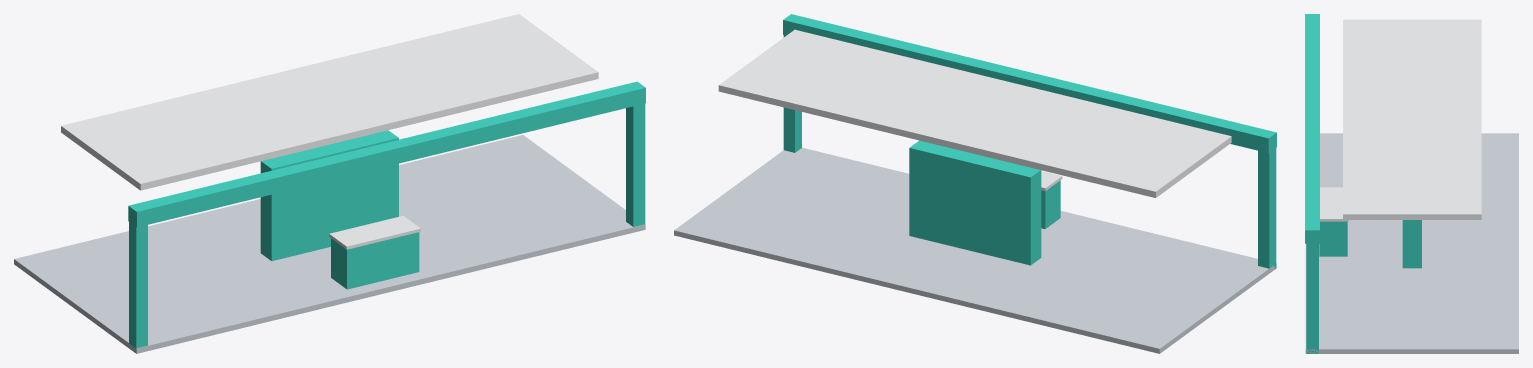
3 views of the same model, side by side, from view 1: azimuth 30°, elevation 25°; view 2: azimuth 150°, elevation 25°; view 3: azimuth 270°, elevation 25° (orthographic). The views are drawn at different scales.
Visible parts, largest first — view 1: Exhibition Booth Concept; view 2: Exhibition Booth Concept; view 3: Exhibition Booth Concept.
Part boxes in pixels (x1,y1,x2,y2): Exhibition Booth Concept: [14, 14, 645, 353]; Exhibition Booth Concept: [674, 14, 1276, 353]; Exhibition Booth Concept: [1305, 14, 1518, 353].
Size of the model in its own units: 12 by 3.34 by 5.02.
